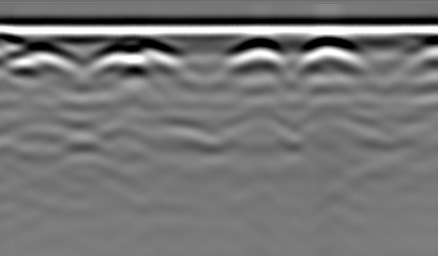steel: (300, 39, 360, 69), (235, 40, 283, 68), (88, 45, 137, 72), (19, 42, 63, 70)
